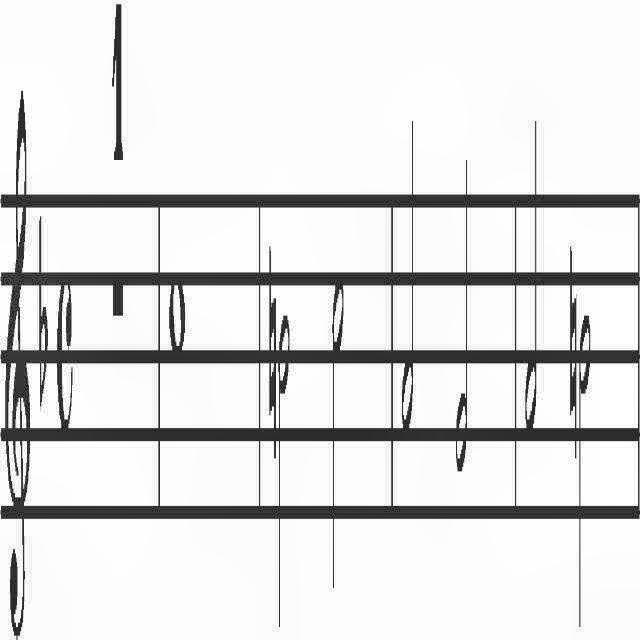Bass-clef: (5, 78, 31, 640)
Bemol: (38, 206, 50, 422)
Full-note: (169, 276, 187, 362)
Half-note: (454, 138, 470, 484), (400, 105, 416, 443), (524, 102, 538, 446), (278, 300, 290, 638), (578, 300, 590, 638), (332, 275, 344, 597)
